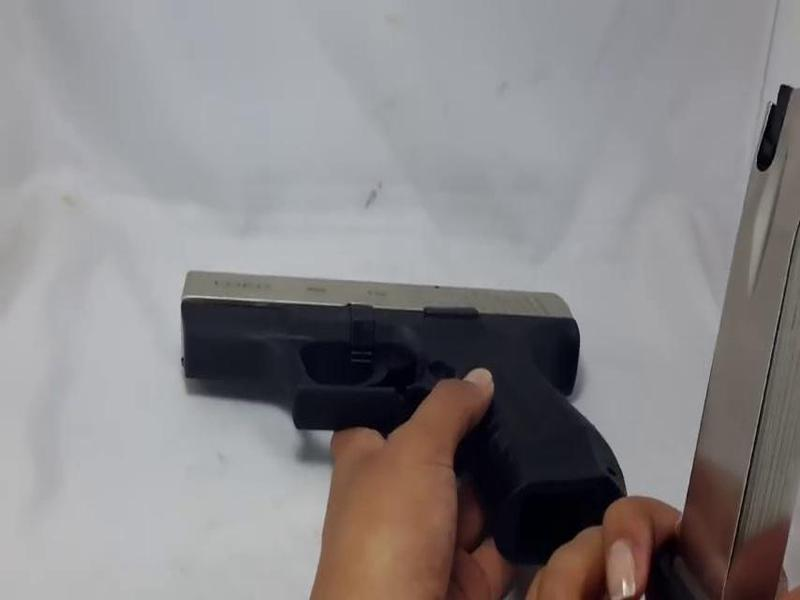Pistola: (175, 264, 632, 556)
